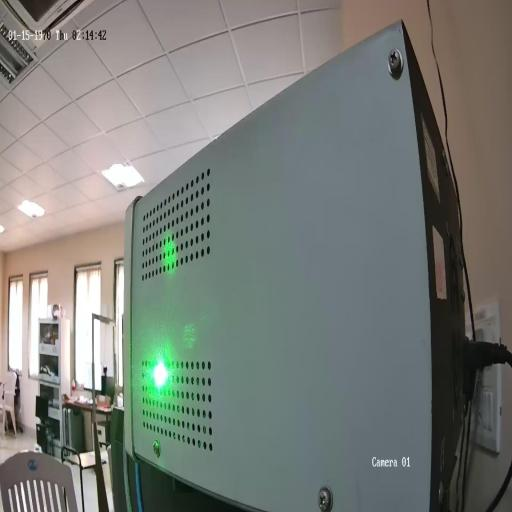laser: (151, 354, 172, 395)
